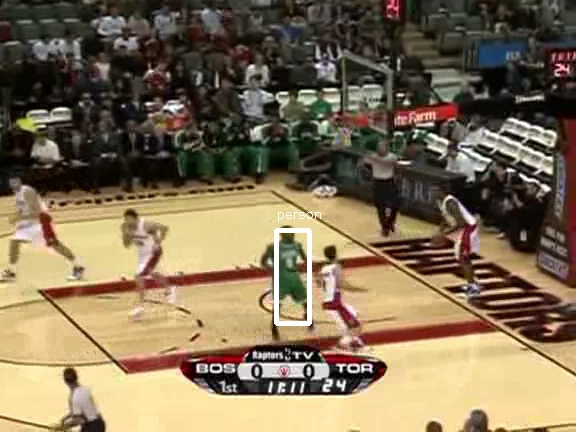person: (273, 232, 307, 313), (272, 232, 306, 313), (274, 232, 308, 313), (273, 231, 307, 312), (273, 233, 307, 314)
target_negative: (107, 139, 570, 365), (170, 191, 309, 431), (485, 78, 550, 428), (387, 125, 431, 347), (385, 329, 538, 361), (449, 261, 479, 296)
